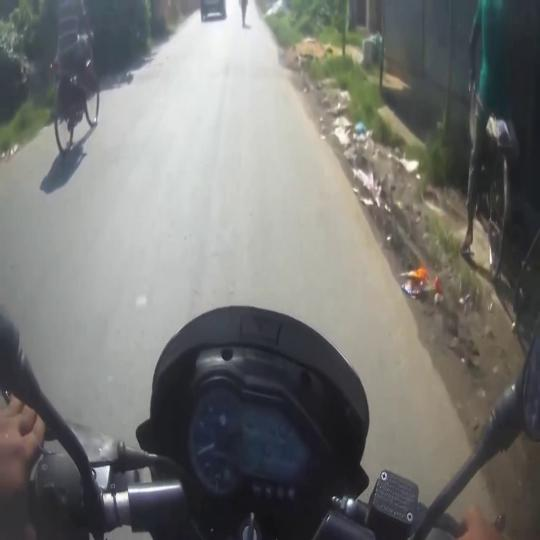Speed Bump: (101, 60, 305, 91)
